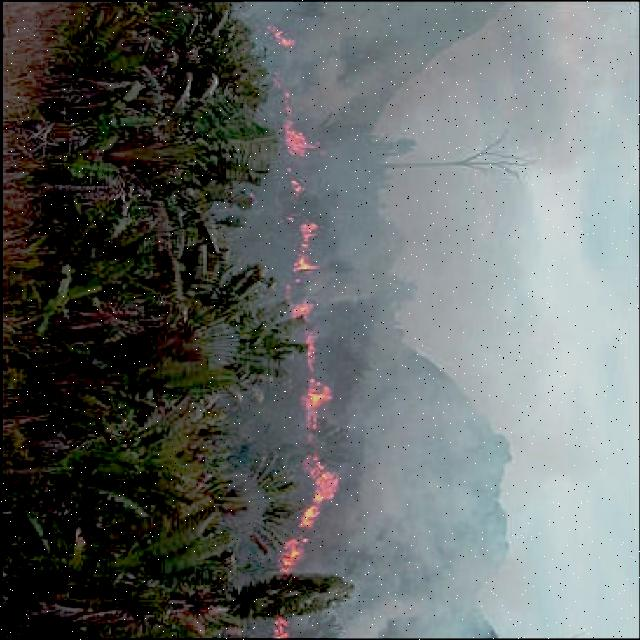api: (272, 34, 336, 572), (266, 617, 302, 640)
asap: (353, 1, 527, 640)
